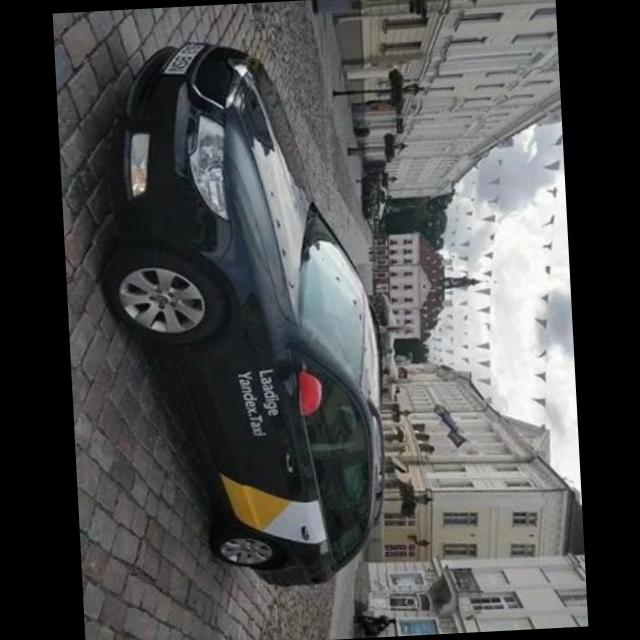taxi: (90, 33, 405, 597)
